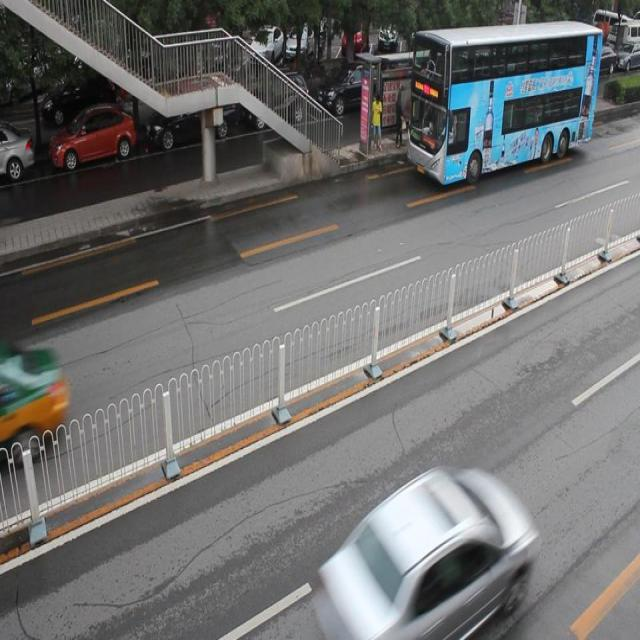car: (308, 463, 538, 640), (50, 105, 136, 172), (145, 94, 237, 153), (314, 63, 389, 123), (244, 72, 307, 128), (1, 125, 34, 181)
van: (405, 19, 602, 186)
